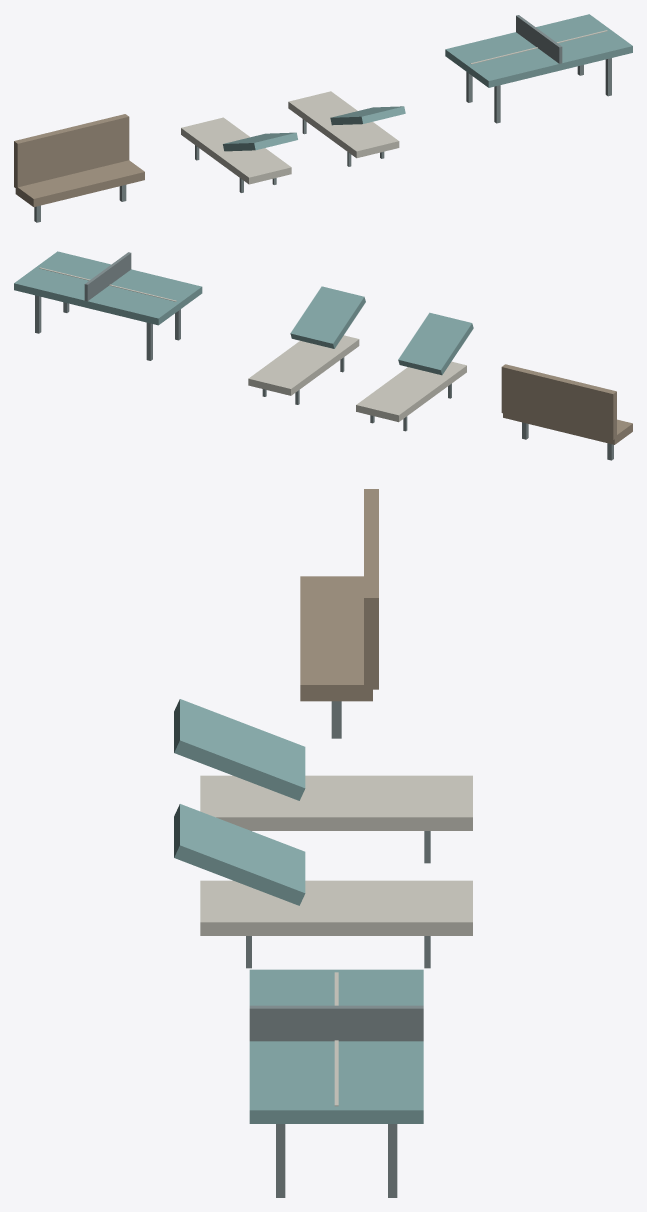
The model's file is recreation.glb.
The picture shows the model from 3 angles, top to bottom: view 1: azimuth 30°, elevation 25°; view 2: azimuth 150°, elevation 25°; view 3: azimuth 270°, elevation 25°; orthographic projection. The views are drawn at different scales.
Visible parts, largest first — view 1: Sanatorium_Recreation_Sanatorium_Faded_Aqua, Sanatorium_Recreation_Sanatorium_Dull_Wood, Sanatorium_Recreation_Sanatorium_Cream_Plaster, Sanatorium_Recreation_Sanatorium_Painted_Metal; view 2: Sanatorium_Recreation_Sanatorium_Faded_Aqua, Sanatorium_Recreation_Sanatorium_Cream_Plaster, Sanatorium_Recreation_Sanatorium_Dull_Wood, Sanatorium_Recreation_Sanatorium_Painted_Metal; view 3: Sanatorium_Recreation_Sanatorium_Faded_Aqua, Sanatorium_Recreation_Sanatorium_Cream_Plaster, Sanatorium_Recreation_Sanatorium_Dull_Wood, Sanatorium_Recreation_Sanatorium_Painted_Metal.
Boxes of the visible parts, left/top/right/bottom form: Sanatorium_Recreation_Sanatorium_Faded_Aqua: left=223, top=14, right=632, bottom=151; Sanatorium_Recreation_Sanatorium_Dull_Wood: left=14, top=114, right=144, bottom=206; Sanatorium_Recreation_Sanatorium_Cream_Plaster: left=181, top=30, right=607, bottom=184; Sanatorium_Recreation_Sanatorium_Painted_Metal: left=34, top=15, right=611, bottom=222; Sanatorium_Recreation_Sanatorium_Faded_Aqua: left=14, top=251, right=473, bottom=375; Sanatorium_Recreation_Sanatorium_Cream_Plaster: left=39, top=267, right=466, bottom=422; Sanatorium_Recreation_Sanatorium_Dull_Wood: left=501, top=364, right=632, bottom=444; Sanatorium_Recreation_Sanatorium_Painted_Metal: left=35, top=252, right=613, bottom=460; Sanatorium_Recreation_Sanatorium_Faded_Aqua: left=174, top=699, right=423, bottom=1123; Sanatorium_Recreation_Sanatorium_Cream_Plaster: left=200, top=775, right=472, bottom=1106; Sanatorium_Recreation_Sanatorium_Dull_Wood: left=300, top=489, right=378, bottom=701; Sanatorium_Recreation_Sanatorium_Painted_Metal: left=246, top=701, right=430, bottom=1197.
Size of the model in its own units: 8.95 by 1.1 by 1.97.
